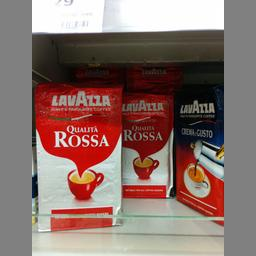coffee: (33, 79, 122, 231), (175, 87, 223, 225), (121, 89, 174, 198)
